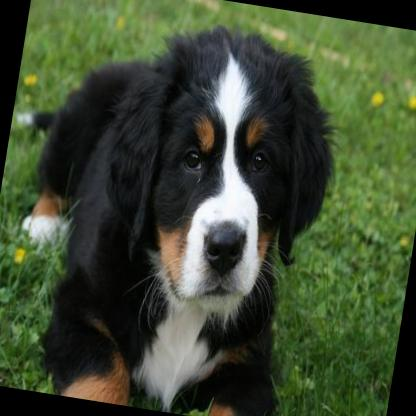Bernese_mountain_dog: (0, 0, 359, 416)
